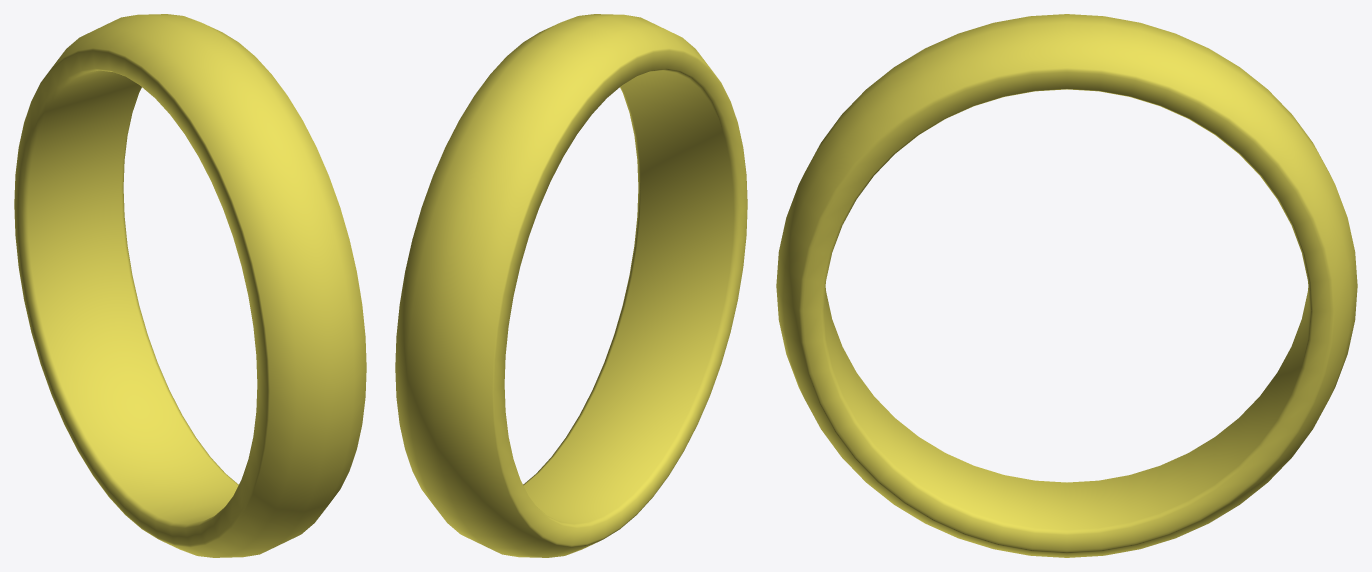
File: ring.fbx
3 views of the same model, side by side, from view 1: azimuth 30°, elevation 25°; view 2: azimuth 150°, elevation 25°; view 3: azimuth 270°, elevation 25° (orthographic). The views are drawn at different scales.
Visible parts, largest first — view 1: Torus; view 2: Torus; view 3: Torus.
Boxes of the visible parts, bbox=[...] form: Torus: bbox=[14, 14, 366, 557]; Torus: bbox=[395, 14, 747, 557]; Torus: bbox=[776, 14, 1357, 557].
Size of the model in its own units: 35.48 by 168 by 168.
